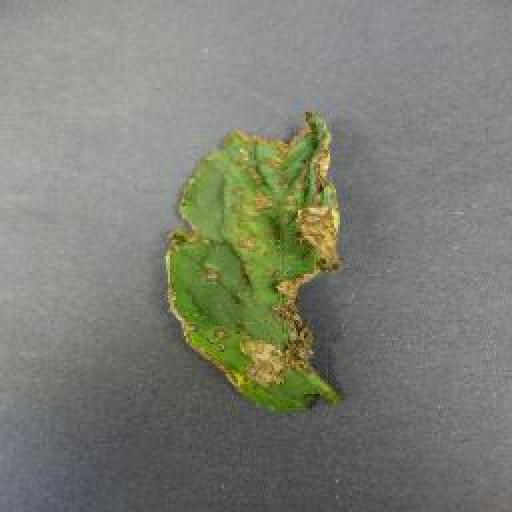Bacterial Spot: (161, 106, 350, 424)
